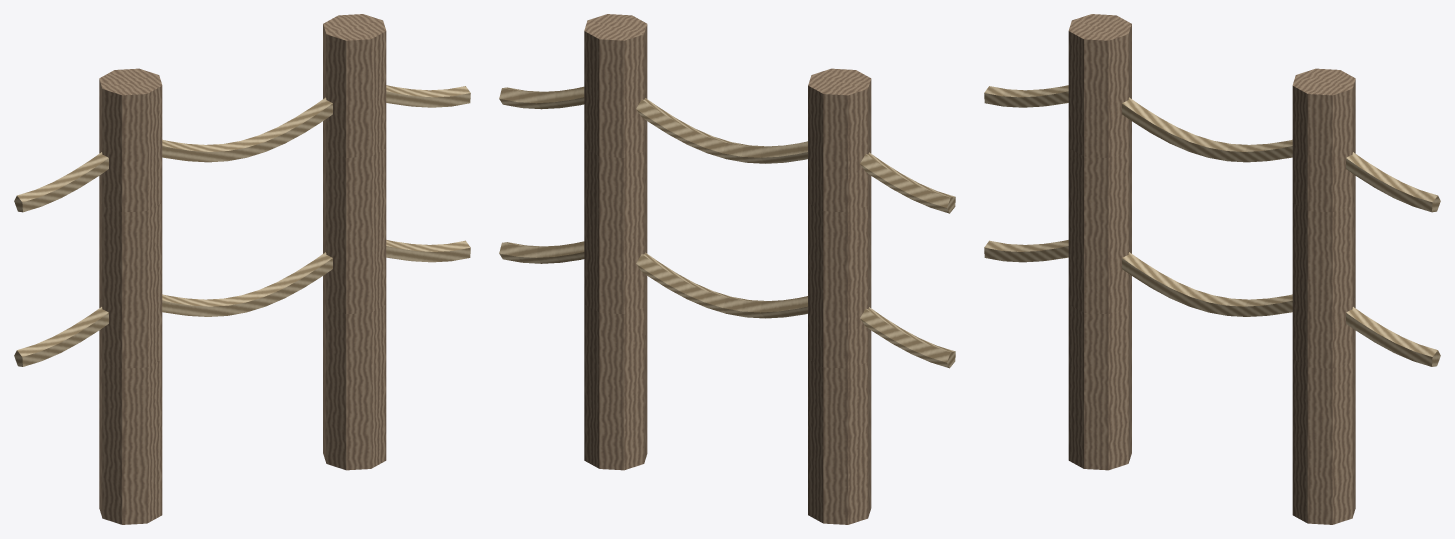
File: 밧줄난간.fbx
3 views of the same model, side by side, from view 1: azimuth 30°, elevation 25°; view 2: azimuth 150°, elevation 25°; view 3: azimuth 330°, elevation 25° (orthographic).
Visible parts, largest first — view 1: 밧줄난간; view 2: 밧줄난간; view 3: 밧줄난간.
Boxes of the visible parts, <box> form: 밧줄난간: <box>14,14,470,524</box>; 밧줄난간: <box>499,14,955,524</box>; 밧줄난간: <box>984,14,1440,524</box>.
Bounding box in the file's own units: 601 × 550 × 76.
Materials: 2 (2 with a texture image).
